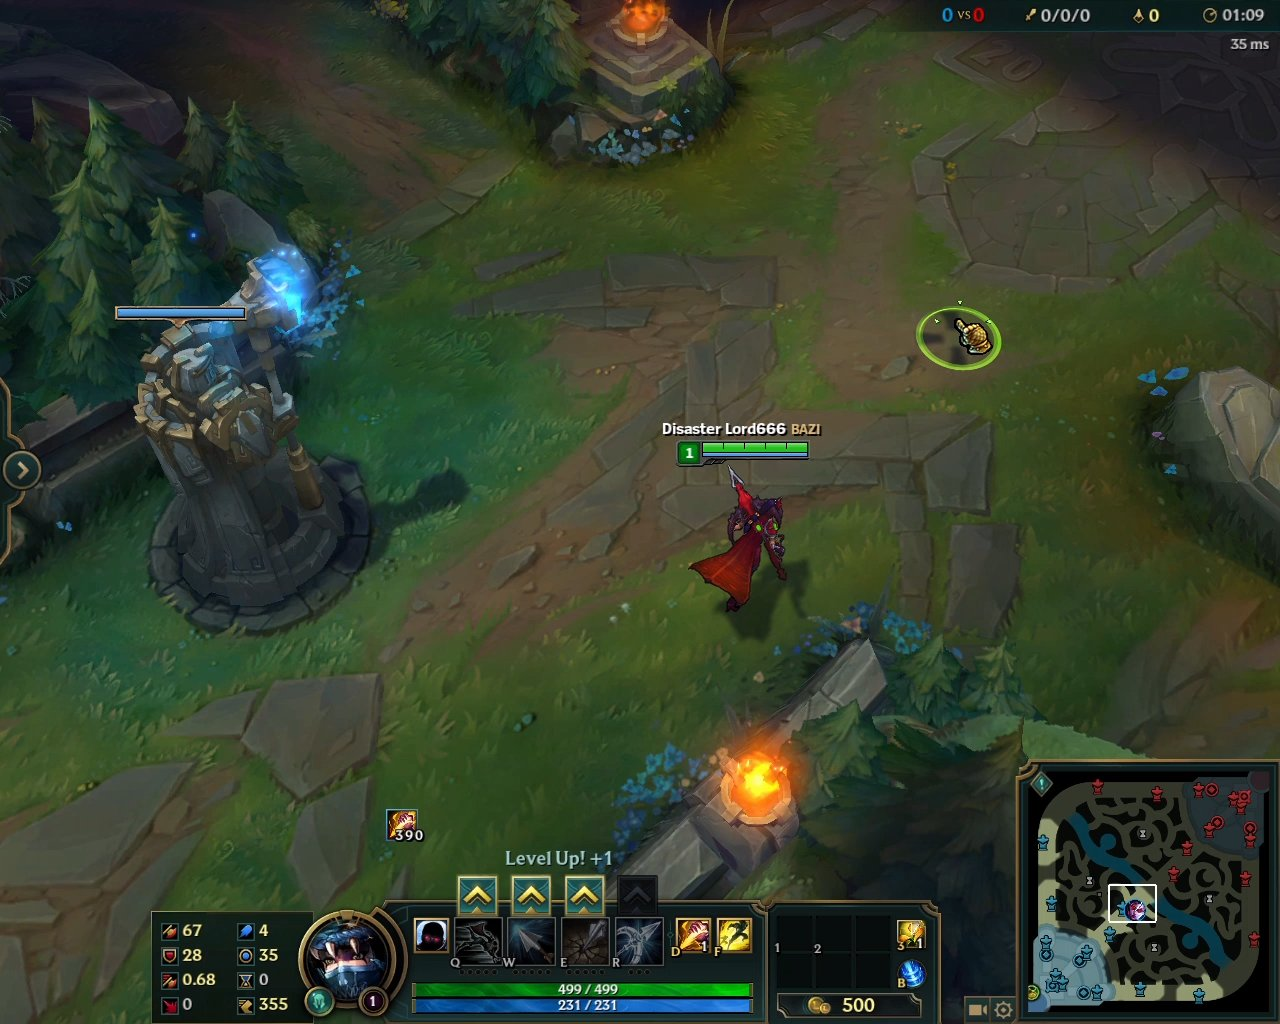Vayne: (686, 467, 805, 618)
